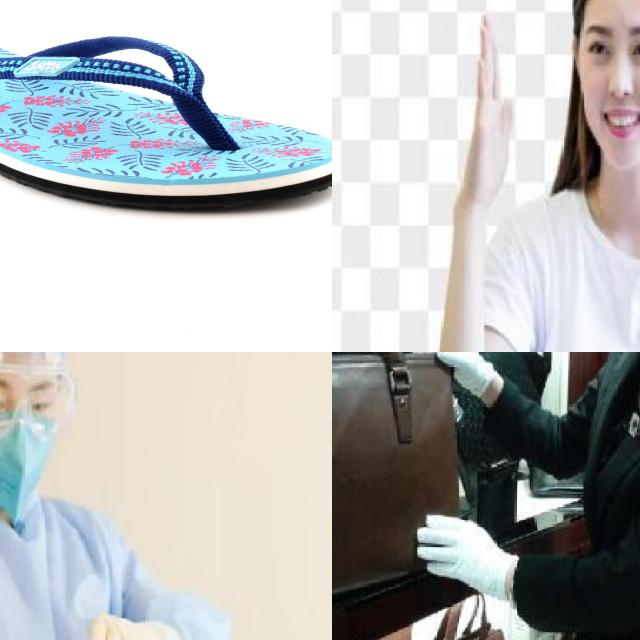No_Glasses: (580, 19, 640, 69)
Sandals: (0, 30, 332, 213)
face_mask: (0, 369, 62, 521)
face_nomask: (575, 4, 640, 175)
glasses: (0, 357, 77, 441)
hand_glove: (414, 505, 508, 609), (410, 352, 496, 403), (82, 612, 168, 640)
hand_noglove: (461, 15, 514, 207)
person: (411, 0, 640, 352), (0, 352, 237, 640)
